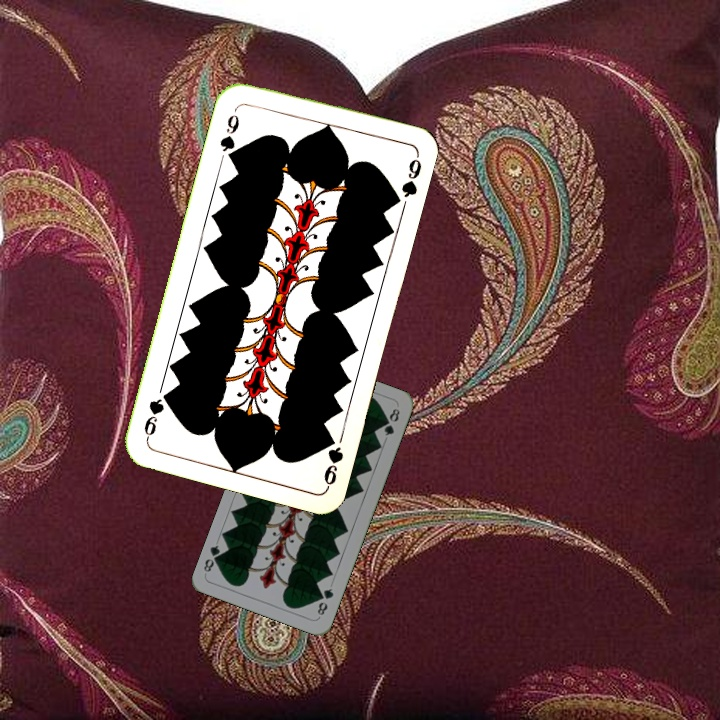G8: (313, 584, 336, 618)
G9: (319, 429, 346, 490), (215, 103, 242, 163)
